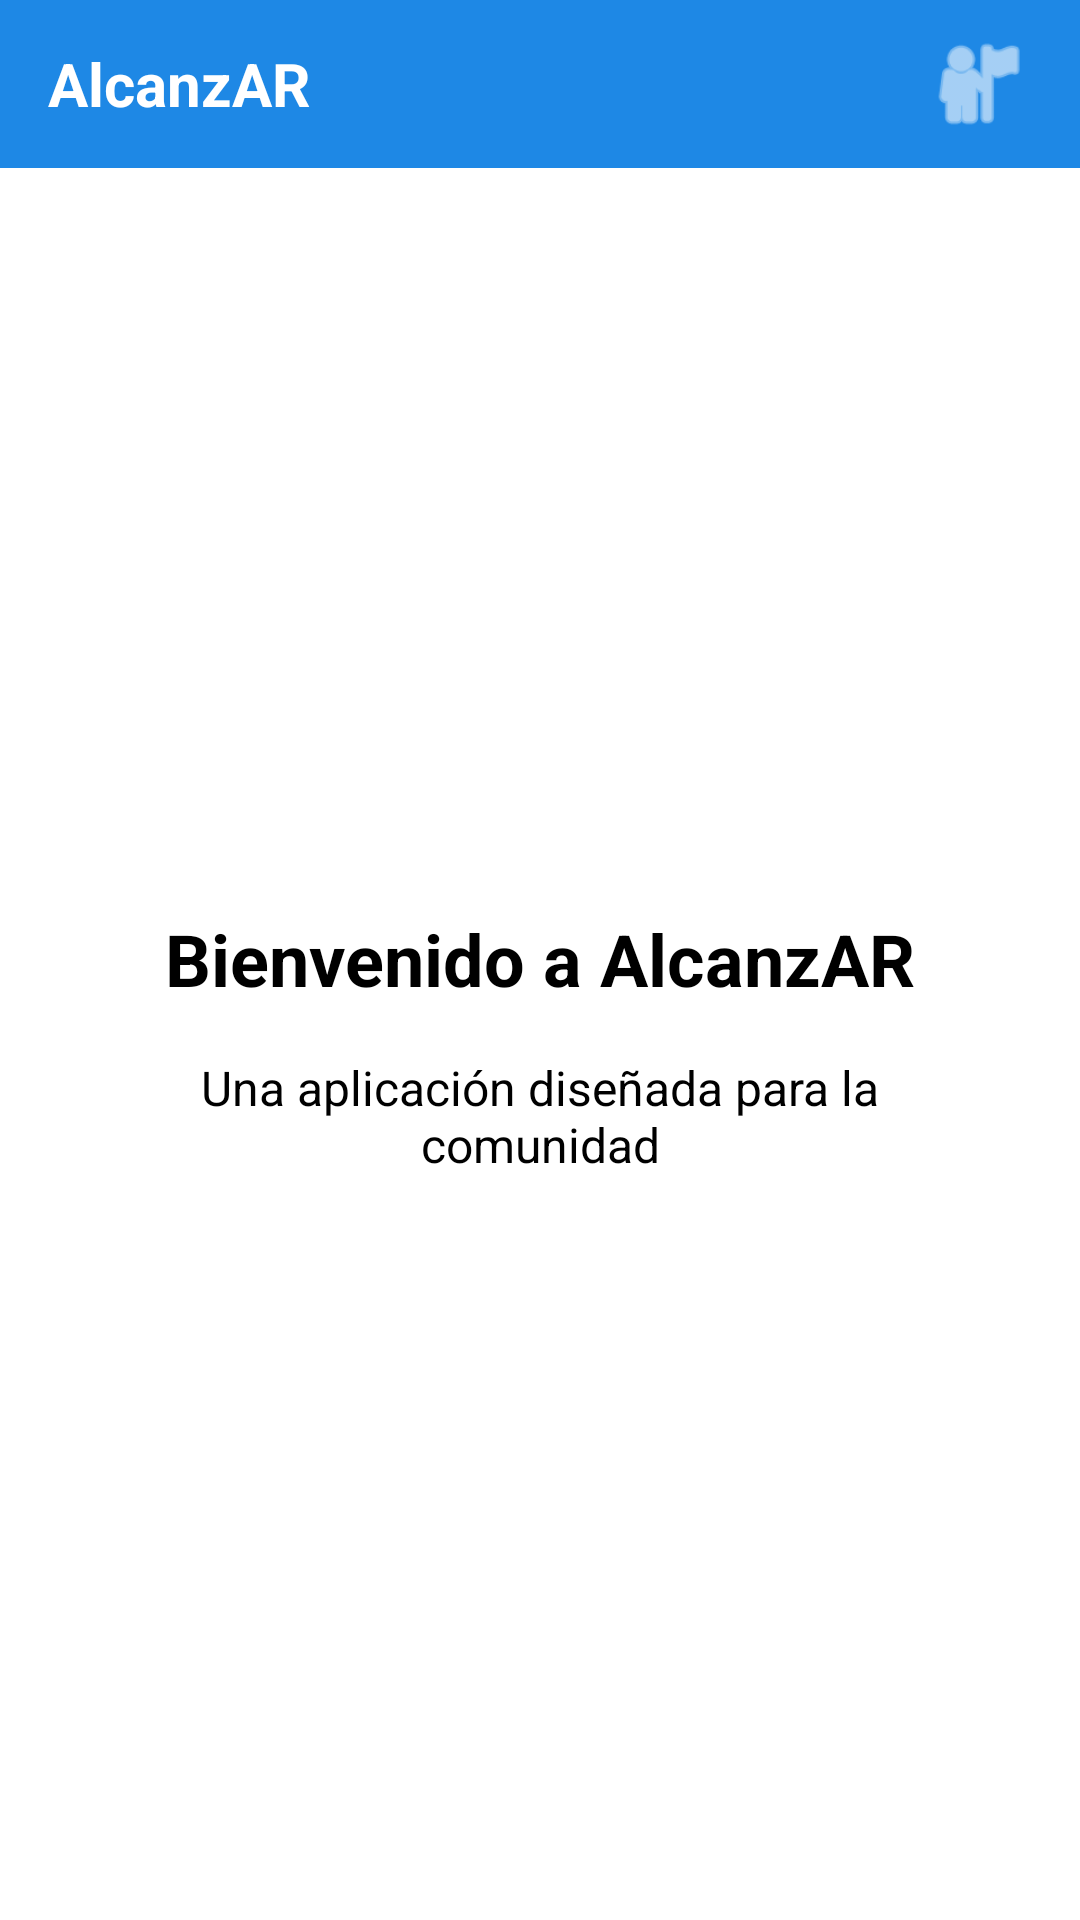

Icons on this 1080w x 1920h Android screen, each with the point to tap as (x=x, y=y):
Perfil: (x=979, y=84)
